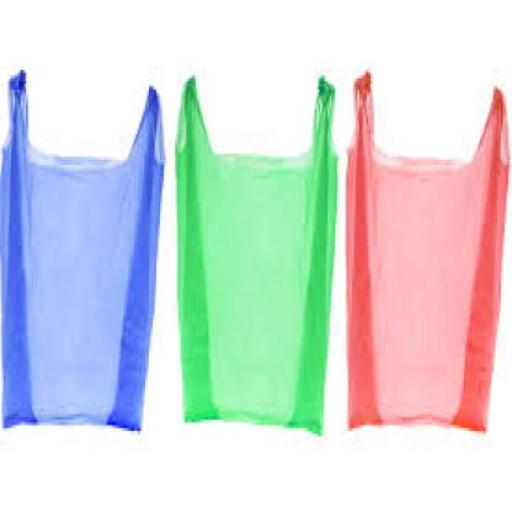plastic: (344, 70, 510, 431), (0, 67, 162, 428), (173, 73, 335, 433)
